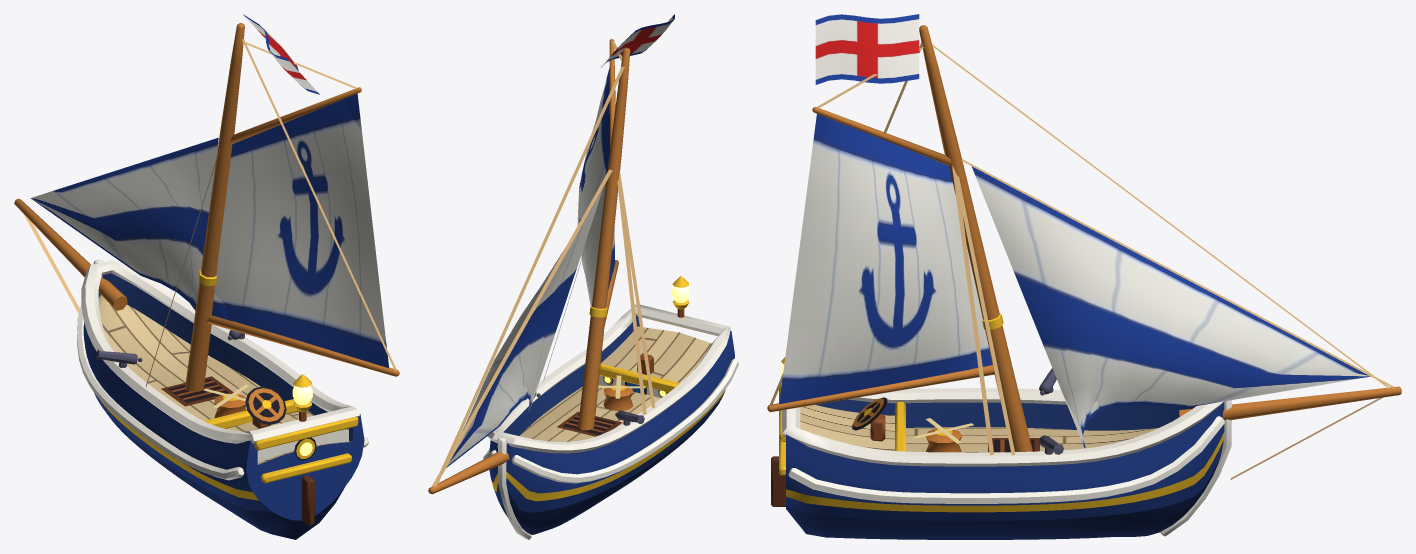
The model's file is navy_cutter.glb.
The picture shows the model from 3 angles, left to right: view 1: azimuth 30°, elevation 25°; view 2: azimuth 150°, elevation 25°; view 3: azimuth 270°, elevation 25°; orthographic projection. The views are drawn at different scales.
Visible parts, largest first — view 1: Hull, Sail0_0, Jib, Rigging, Flag, Guns0; view 2: Hull, Rigging, Jib, Sail0_0, Flag; view 3: Hull, Sail0_0, Jib, Rigging, Flag.
Boxes of the visible parts, left/top/right/bottom form: Hull: left=77, top=259, right=368, bottom=539; Sail0_0: left=212, top=93, right=388, bottom=368; Jib: left=30, top=137, right=218, bottom=310; Rigging: left=14, top=23, right=399, bottom=391; Flag: left=243, top=14, right=319, bottom=94; Guns0: left=96, top=330, right=244, bottom=367; Hull: left=483, top=276, right=738, bottom=539; Rigging: left=428, top=39, right=655, bottom=494; Jib: left=446, top=187, right=603, bottom=467; Sail0_0: left=577, top=67, right=615, bottom=305; Flag: left=601, top=14, right=674, bottom=67; Hull: left=771, top=357, right=1231, bottom=539; Sail0_0: left=779, top=114, right=992, bottom=403; Jib: left=971, top=166, right=1370, bottom=448; Rigging: left=767, top=25, right=1401, bottom=479; Flag: left=815, top=14, right=919, bottom=84.
Bounding box in the file's own units: 0.6723 × 1.87 × 2.05.
8 materials, 4 textured.
